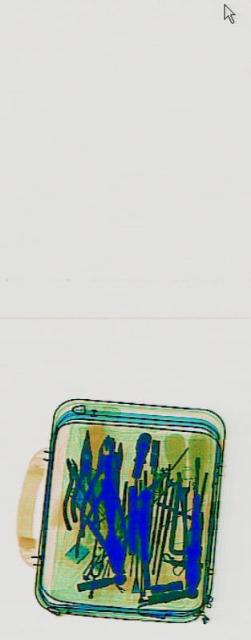Pliers: (76, 421, 124, 553), (73, 466, 130, 560), (55, 442, 97, 548), (69, 427, 99, 527)
